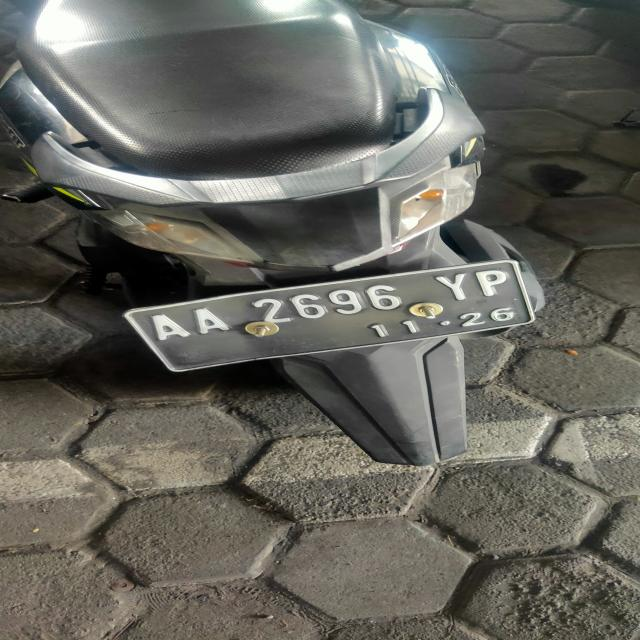License-Plate: (85, 232, 584, 372)
